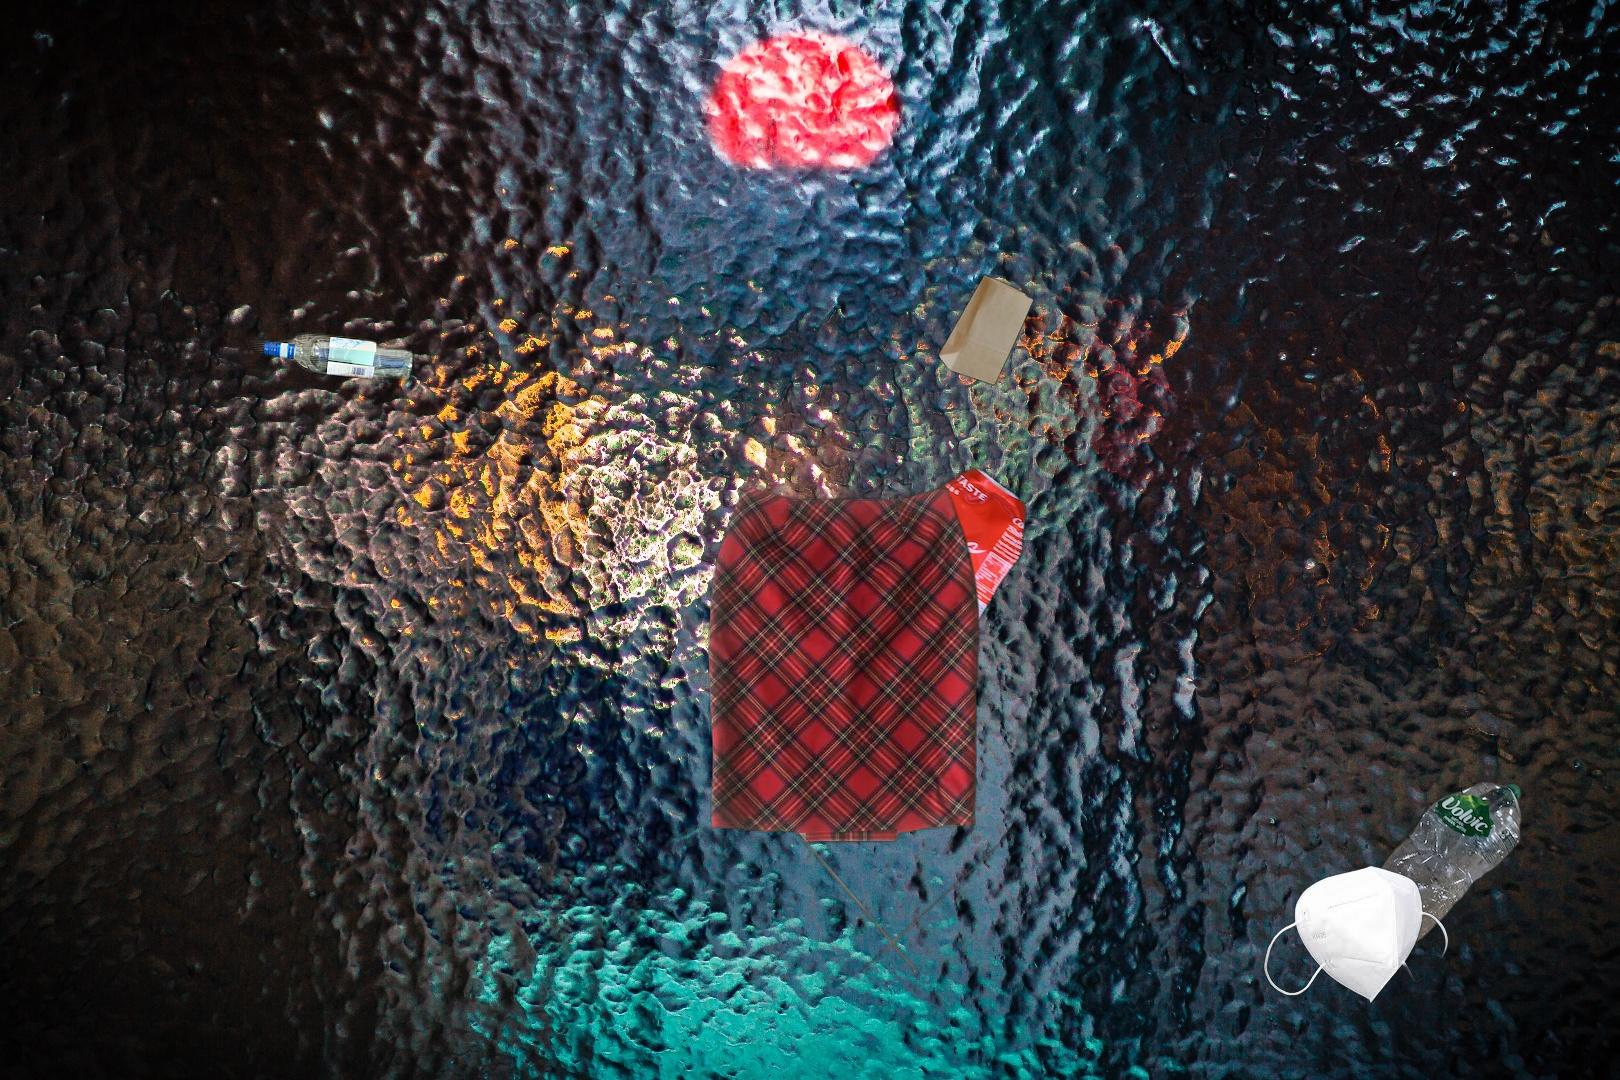clothes: (655, 480, 1055, 972)
glass: (250, 327, 419, 388)
metal-cans: (886, 462, 1031, 650)
paper-bag: (935, 272, 1035, 386)
plastic-bottles: (1357, 740, 1527, 949)
trash: (1261, 863, 1451, 1008)
